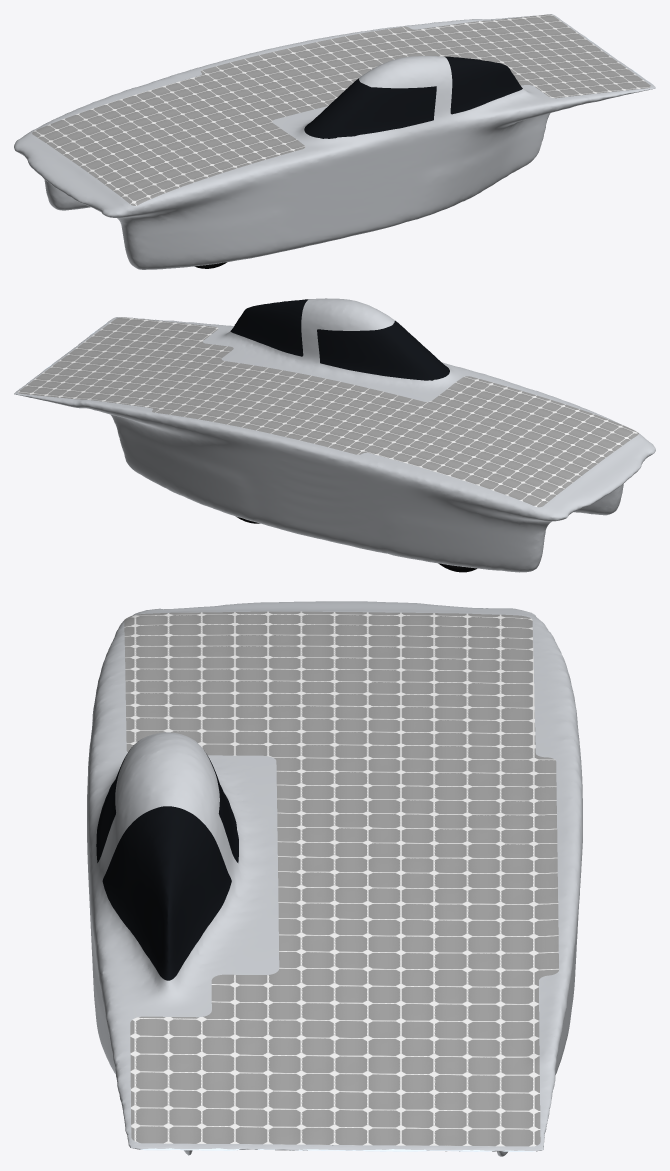
Rendered from carrera.glb.
3 views of the same model, one above another, from view 1: azimuth 30°, elevation 25°; view 2: azimuth 150°, elevation 25°; view 3: azimuth 270°, elevation 25° (orthographic). The views are drawn at different scales.
Parts seen in each view (by area): view 1: Body, SolarCells, Glass; view 2: Body, SolarCells, Glass; view 3: SolarCells, Body, Glass.
Boxes of the visible parts, bbox=[...] form: Body: bbox=[14, 14, 655, 269]; SolarCells: bbox=[32, 14, 650, 205]; Glass: bbox=[304, 56, 522, 138]; Body: bbox=[14, 298, 655, 572]; SolarCells: bbox=[18, 317, 639, 507]; Glass: bbox=[230, 299, 449, 380]; SolarCells: bbox=[124, 611, 558, 1146]; Body: bbox=[87, 601, 582, 1156]; Glass: bbox=[96, 745, 238, 980].
Size of the model in its own units: 4.82 by 1.31 by 1.87.
5 materials, 1 textured.
